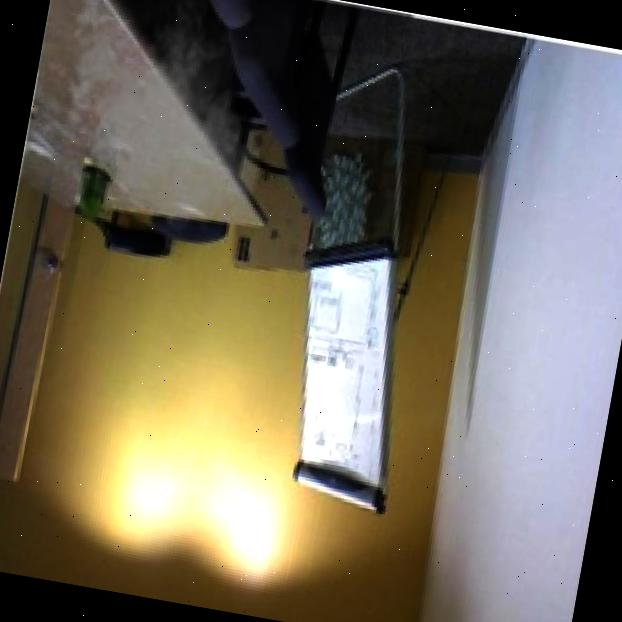smoke: (34, 0, 298, 254)
